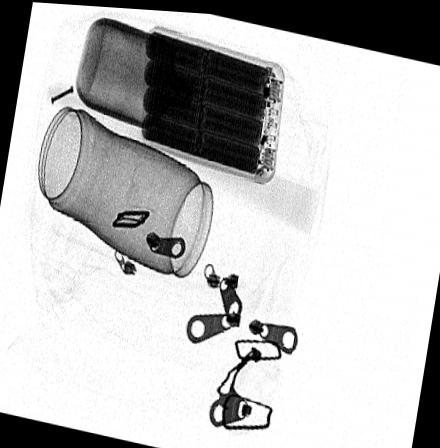Powerbank: (140, 21, 284, 183)
